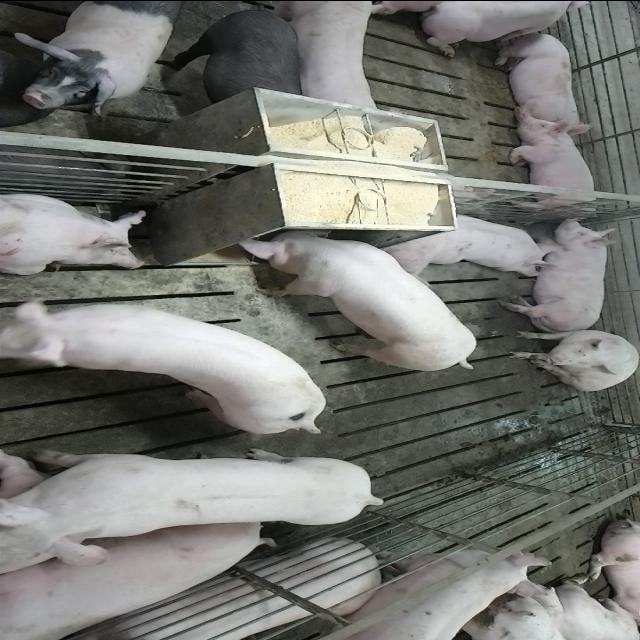Feeding: (233, 230, 479, 376)
Lateral_lying: (0, 523, 273, 640)
Sitting: (506, 326, 638, 390)
Standing: (0, 445, 388, 570), (1, 294, 328, 436), (301, 549, 548, 640), (16, 2, 178, 116), (160, 5, 304, 111), (270, 3, 382, 118)
Sternal_lying: (506, 216, 618, 328), (0, 190, 149, 274), (382, 209, 566, 272), (416, 2, 608, 56), (490, 29, 590, 131), (505, 118, 603, 214)
